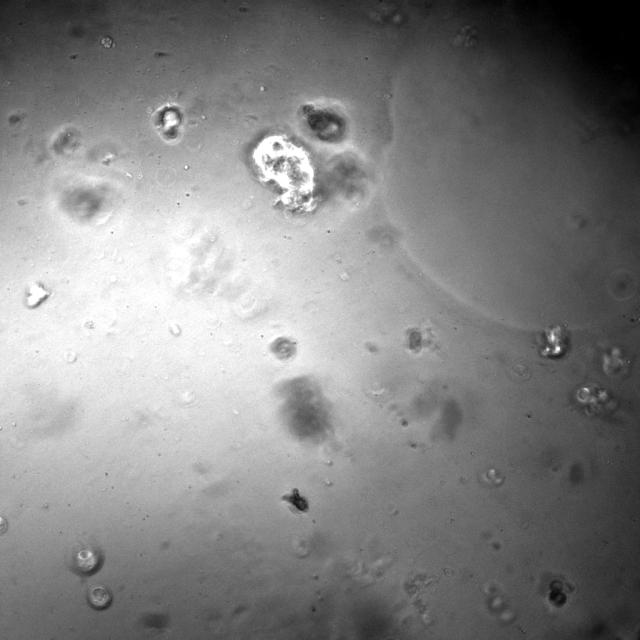organoid: (252, 135, 323, 214), (52, 172, 119, 225), (279, 376, 331, 440), (325, 153, 368, 199), (298, 102, 347, 142), (574, 385, 619, 420), (153, 104, 184, 143), (68, 544, 103, 576), (539, 325, 570, 358), (546, 577, 575, 608), (600, 347, 630, 375), (50, 127, 81, 154), (24, 281, 51, 308), (87, 585, 112, 610), (270, 336, 296, 359), (406, 326, 422, 353), (8, 111, 24, 128), (100, 35, 116, 48), (69, 53, 78, 59)
